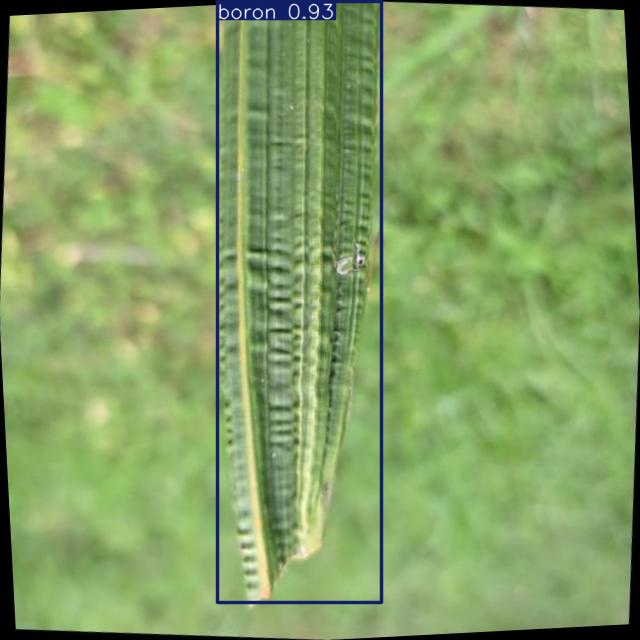nitrogen: (217, 1, 381, 603)
